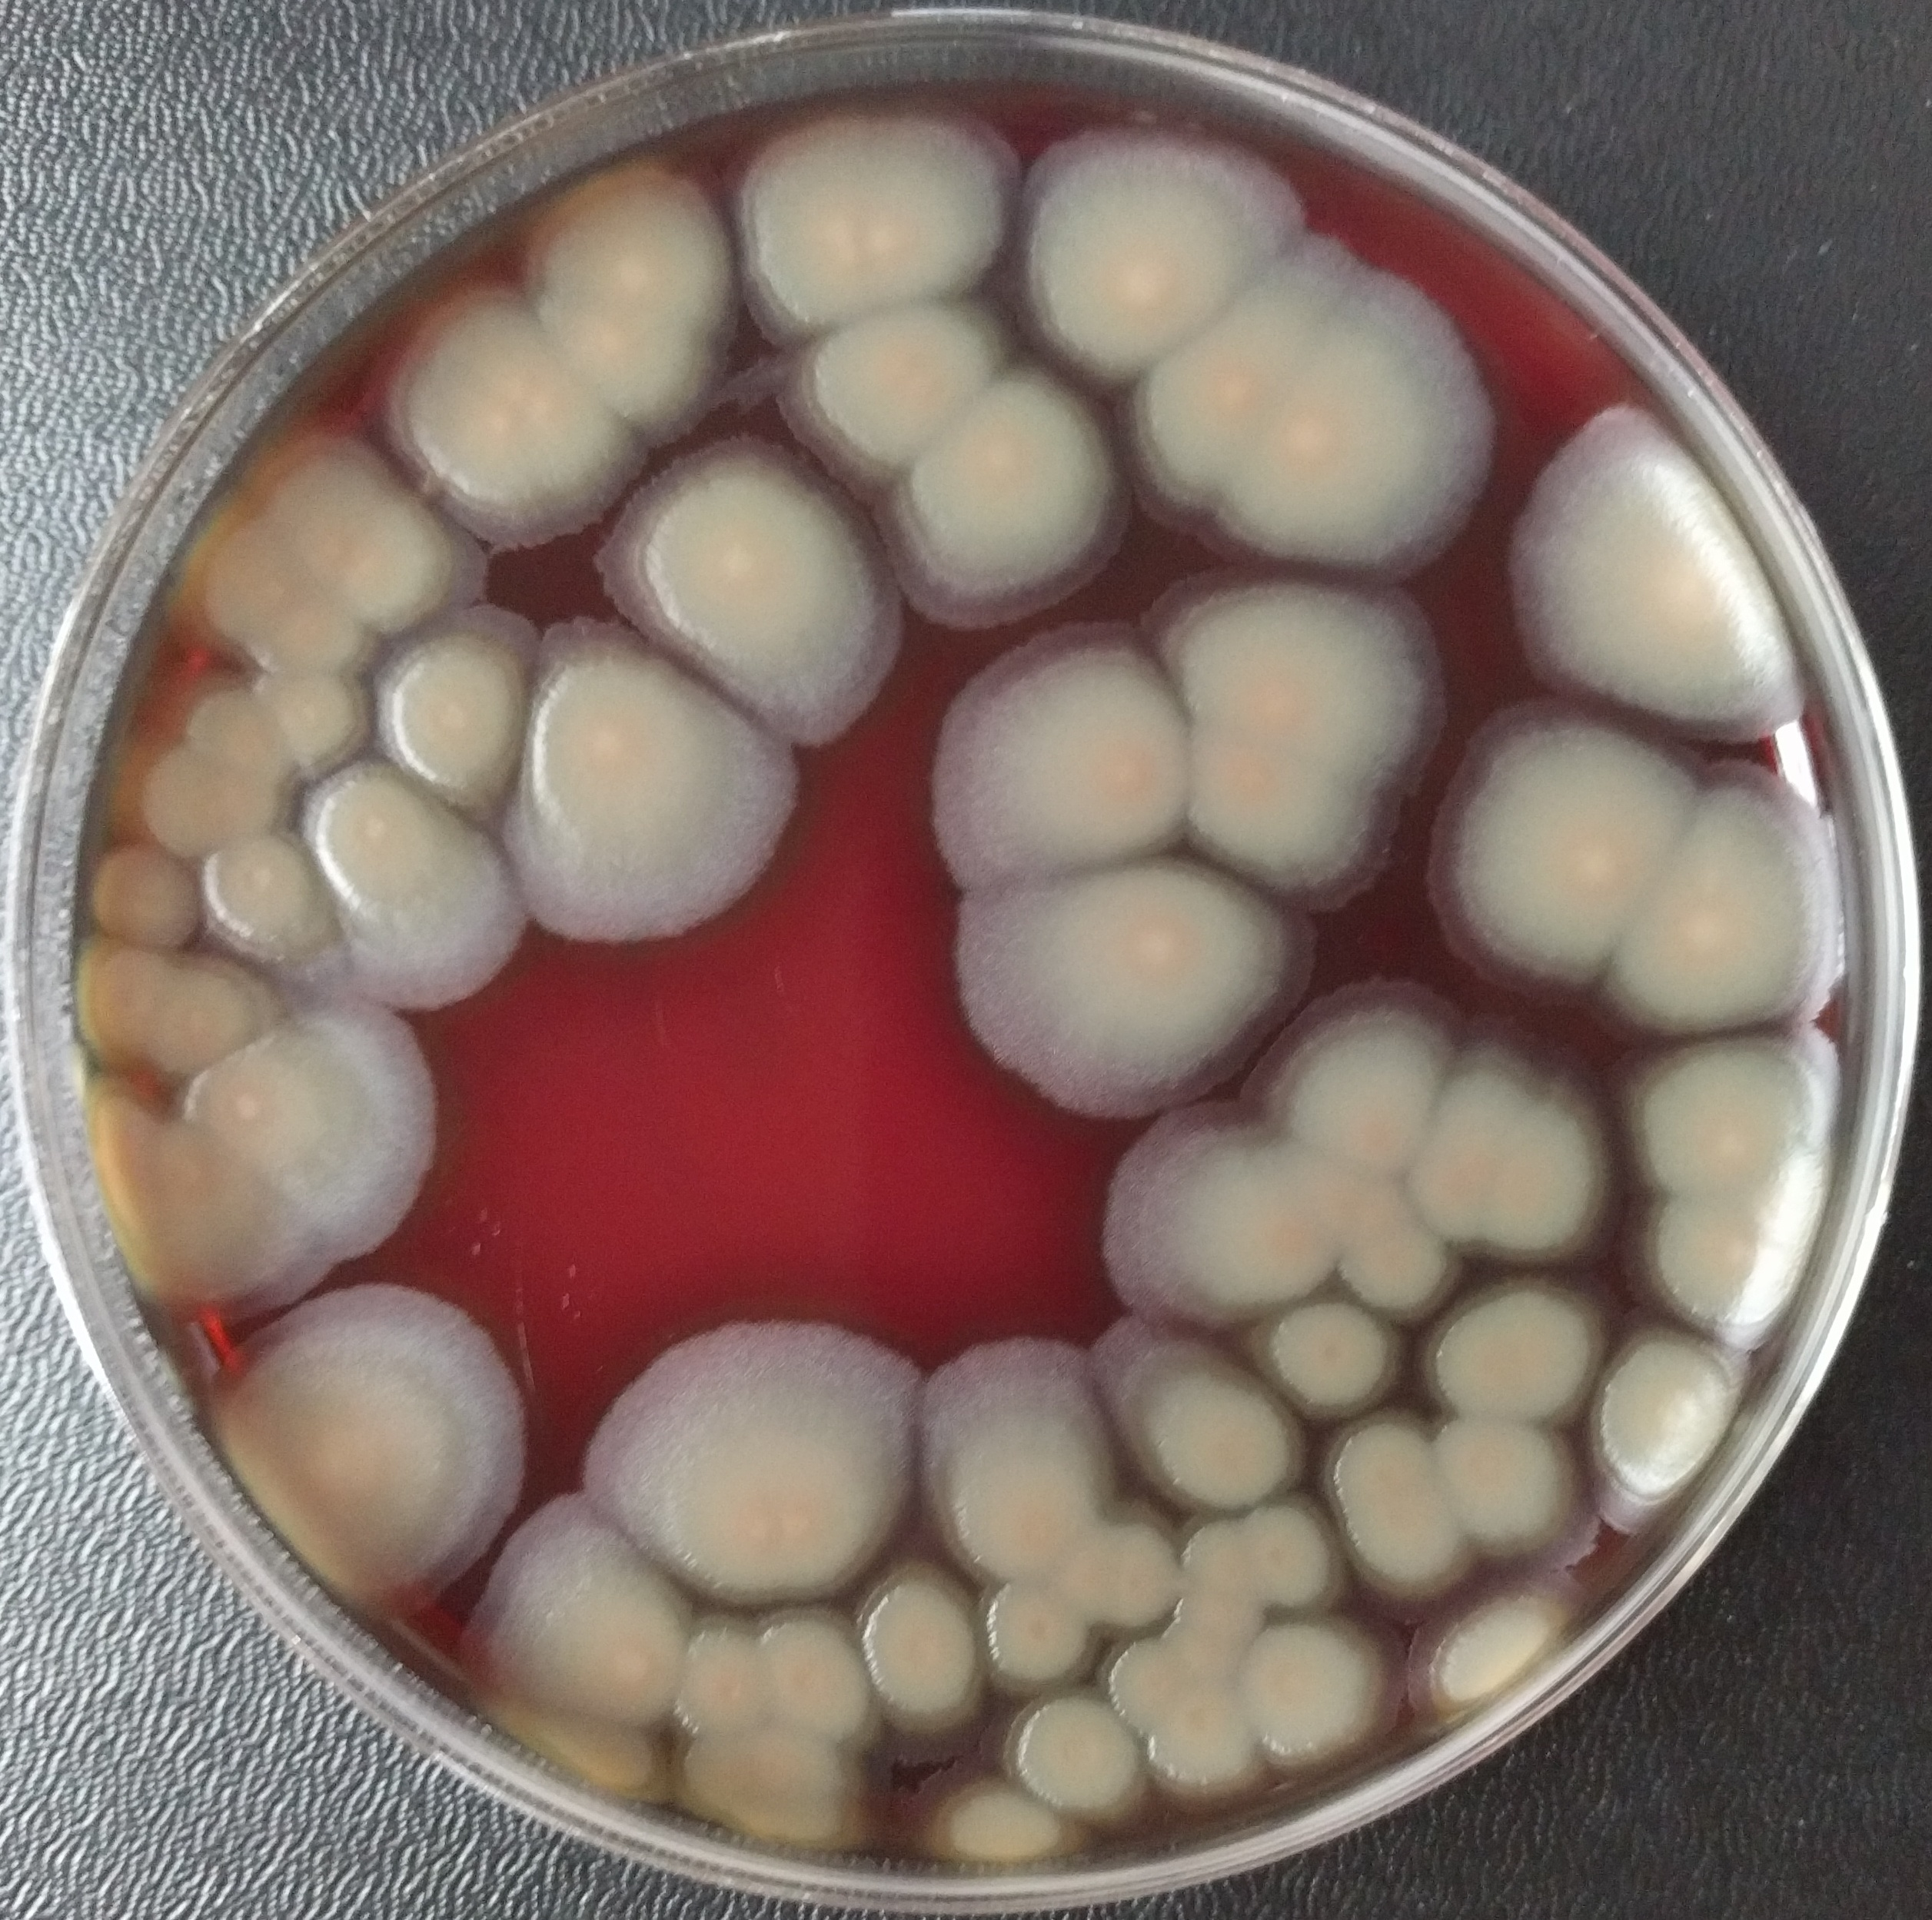sp04: (188, 1250, 534, 1626), (1484, 373, 1811, 742), (566, 1294, 930, 1618), (482, 614, 819, 955), (923, 844, 1329, 1127), (575, 415, 914, 753), (1181, 244, 1505, 580), (1422, 682, 1737, 1013), (153, 979, 454, 1291), (1139, 559, 1452, 835), (918, 605, 1202, 900), (1007, 109, 1303, 390), (1130, 236, 1385, 552), (366, 274, 659, 545), (1579, 758, 1849, 1036), (723, 93, 1018, 345), (448, 1486, 707, 1771), (870, 350, 1123, 622), (1092, 1094, 1382, 1329), (907, 1319, 1146, 1598), (285, 758, 538, 1022), (74, 1060, 330, 1319), (501, 156, 742, 427), (209, 431, 490, 652), (1241, 958, 1471, 1203), (1399, 1025, 1617, 1266), (772, 294, 1020, 501), (1164, 687, 1398, 905), (1610, 1020, 1849, 1224), (1102, 1324, 1322, 1519), (663, 1681, 902, 1860), (1398, 1547, 1594, 1741), (1582, 1313, 1749, 1530), (369, 610, 536, 826), (1621, 1169, 1818, 1345), (1405, 1268, 1616, 1431), (67, 925, 288, 1080), (1229, 1600, 1405, 1793), (682, 1602, 895, 1760), (1315, 1417, 1480, 1609), (977, 1684, 1166, 1846), (1424, 1407, 1600, 1577), (847, 1563, 991, 1748), (192, 823, 353, 986), (102, 703, 264, 860), (898, 1749, 1088, 1881), (207, 540, 381, 680), (1134, 1665, 1280, 1827), (1181, 1491, 1357, 1618), (1250, 1289, 1408, 1421), (967, 1567, 1099, 1702), (1042, 1509, 1183, 1633), (167, 658, 313, 777), (69, 828, 207, 951), (1336, 1204, 1468, 1324), (246, 656, 369, 779), (1150, 1554, 1264, 1683), (1102, 1626, 1224, 1739)
